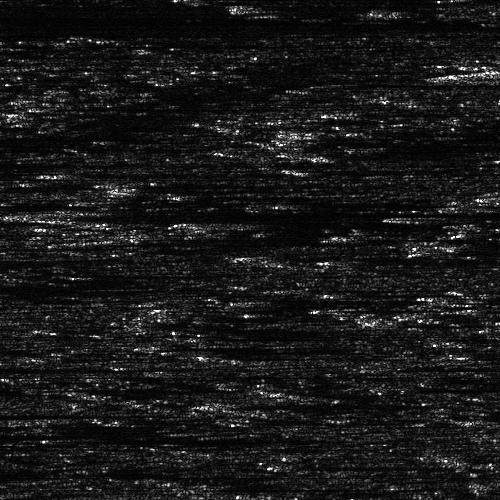rock: (0, 208, 135, 219), (418, 66, 500, 81), (107, 179, 138, 204), (101, 180, 154, 191), (270, 166, 311, 175)
shadow: (123, 179, 419, 204), (68, 208, 500, 219), (128, 180, 276, 191), (0, 237, 46, 254), (291, 166, 367, 175), (63, 172, 136, 175)
